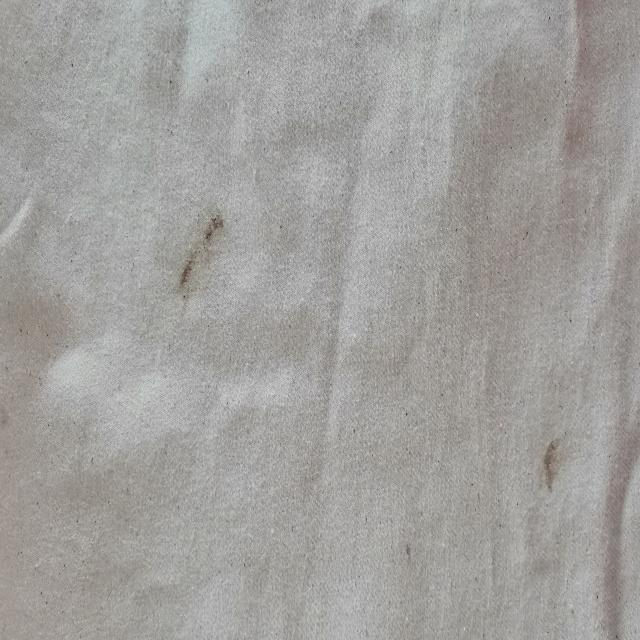taaaches: (173, 191, 229, 312), (537, 420, 565, 501)
